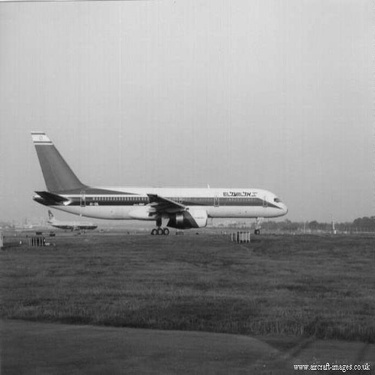airplane: (20, 125, 295, 242), (38, 206, 102, 237)
